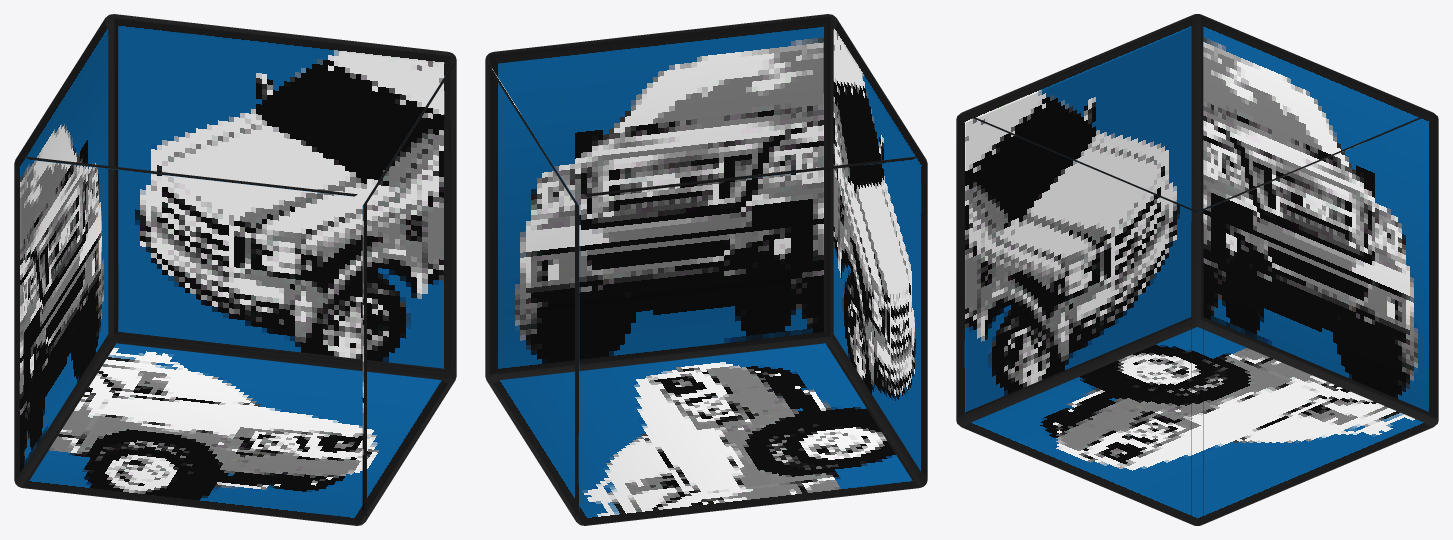
The model's file is ps2_save-icons_fordracingoffroad.glb.
3 renders of one model, left to right at view 1: azimuth 30°, elevation 25°; view 2: azimuth 150°, elevation 25°; view 3: azimuth 270°, elevation 25°, orthographic. The views are drawn at different scales.
Parts seen in each view (by area): view 1: PSICON.ICO; view 2: PSICON.ICO; view 3: PSICON.ICO.
Part boxes in pixels (bbox=[...]): PSICON.ICO: bbox=[14, 14, 456, 525]; PSICON.ICO: bbox=[485, 14, 927, 525]; PSICON.ICO: bbox=[956, 14, 1438, 525].
Size of the model in its own units: 3.51 by 2.52 by 3.51.
1 material, 1 textured.
